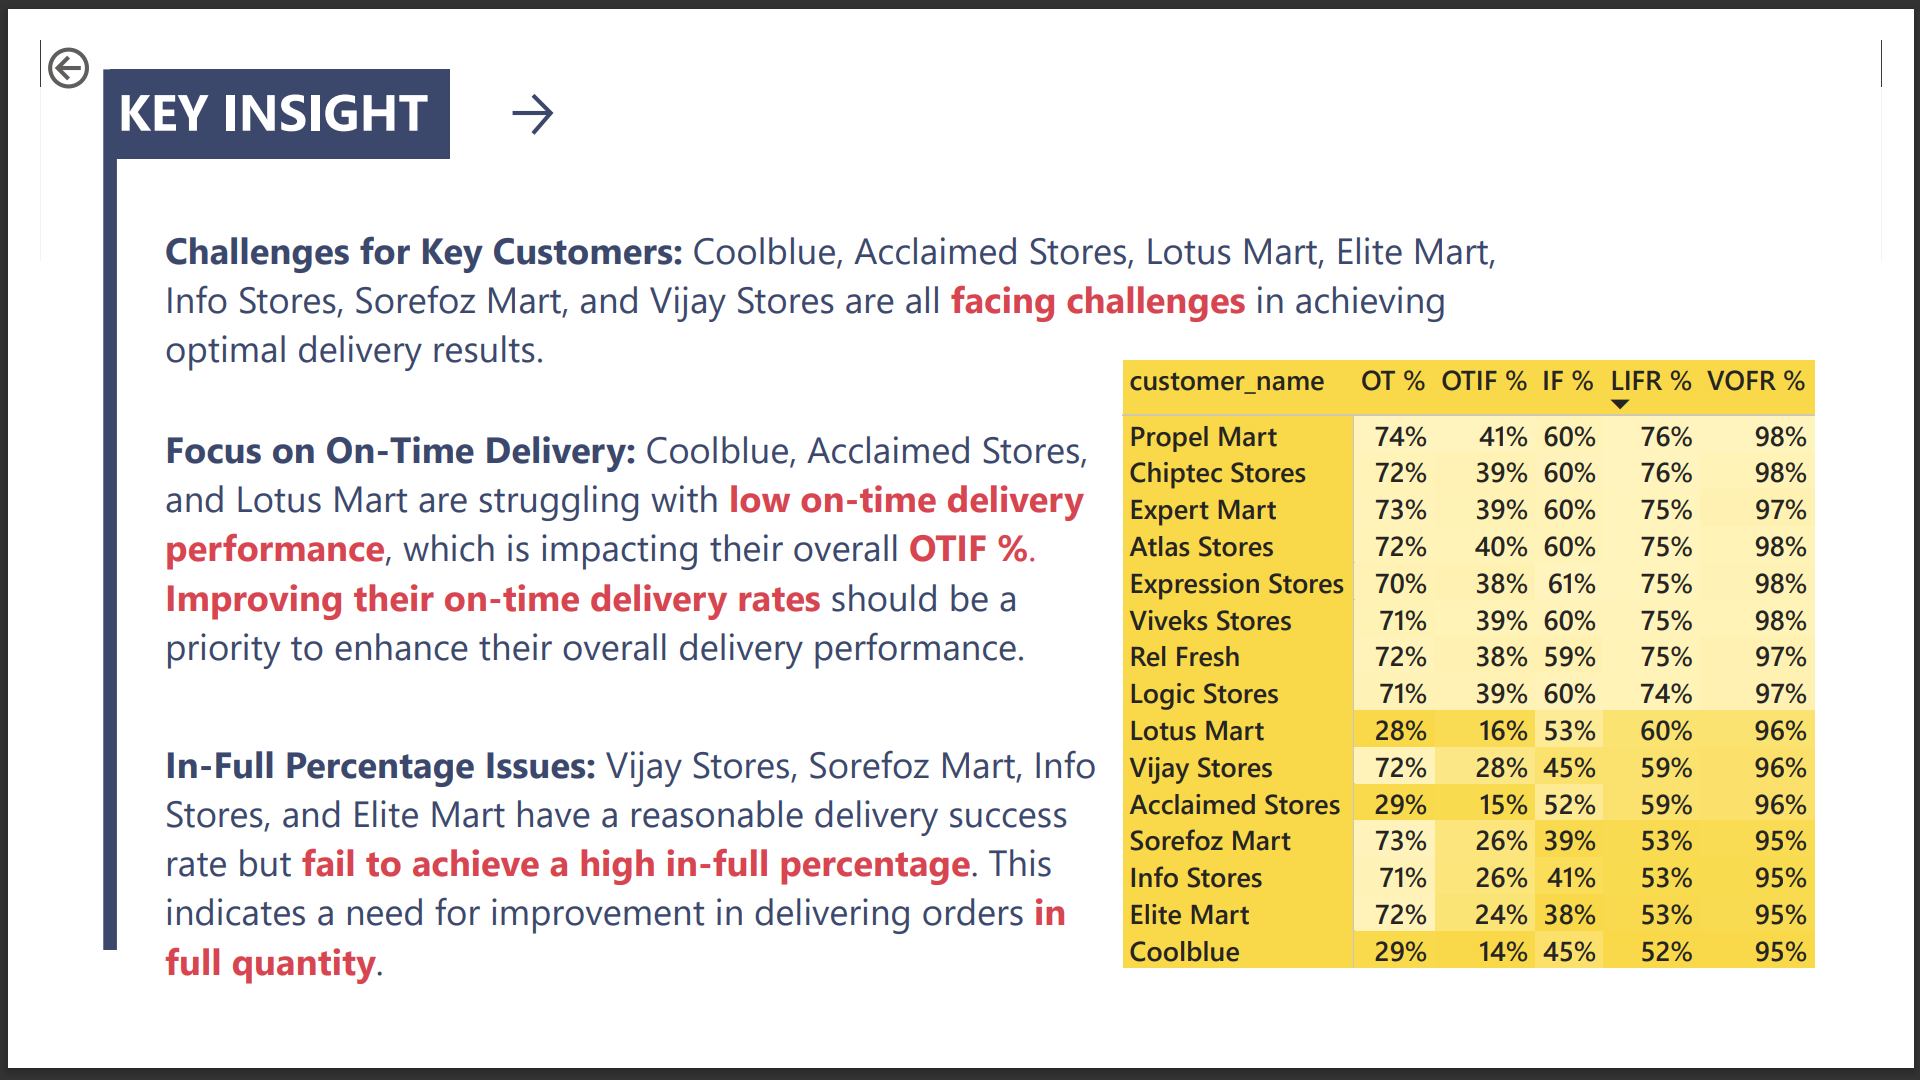

The page's visual inventory and layout, read from the dashboard file:
{"tool":"powerbi","page":{"name":"K2","canvas":[1350,730],"ordinal":5},"visuals":[{"type":"actionButton","box":[0,0,100,40],"z":1000},{"type":"lineChart","fields":{"Y":["All_Measures.VOFR %"]},"box":[100,4995,1580,1245],"z":3000},{"type":"shape","box":[15.5,20.9,70.7,645.8],"z":6000},{"type":"textbox","box":[50.8,20.9,249.1,66.1],"z":7000},{"type":"textbox","box":[85.8,130.1,1020.7,135.8],"z":8000},{"type":"pivotTable","fields":{"Rows":["Customers.customer_name"],"Values":["All_Measures.OT %","All_Measures.OTIF %","All_Measures.IF %","All_Measures.LIFR %","All_Measures.VOFR %"]},"box":[774.1,228.7,537,474.3],"z":9000},{"type":"textbox","box":[86.4,276.1,706.3,426.9],"z":10000},{"type":"actionButton","box":[340,33.6,99.2,40.7],"z":11000}]}

Visuals, with their boxes on the page's 1350x730 design canvas (x1, y1, x2, y2). These are canvas units, not pixel positions in the 1920x1080 screenshot, which may show the page scaled, cropped or inside an application window:
actionButton: <region>0, 0, 100, 40</region>
lineChart - All_Measures.VOFR %: <region>100, 4995, 1680, 6240</region>
shape: <region>16, 21, 86, 667</region>
textbox: <region>51, 21, 300, 87</region>
textbox: <region>86, 130, 1106, 266</region>
pivotTable - Customers.customer_name x All_Measures.OT %: <region>774, 229, 1311, 703</region>
textbox: <region>86, 276, 793, 703</region>
actionButton: <region>340, 34, 439, 74</region>
